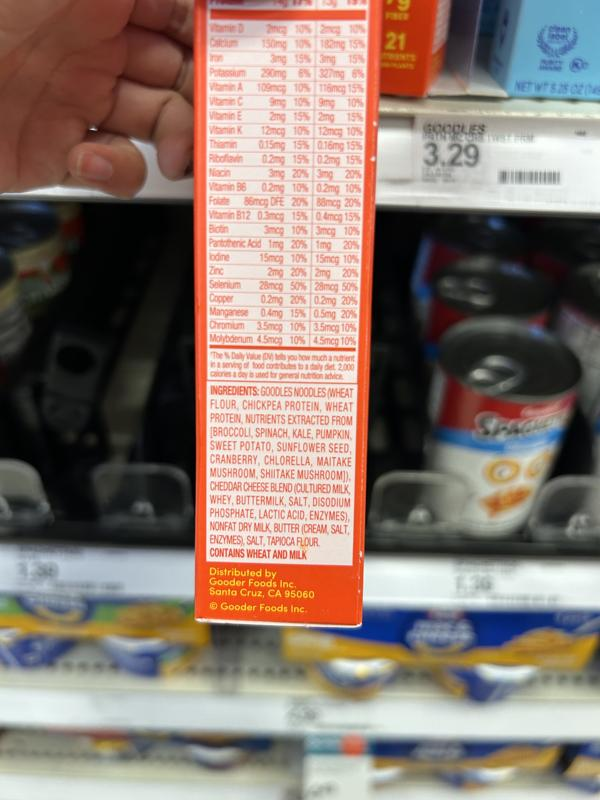ingredients: (207, 383, 356, 548)
